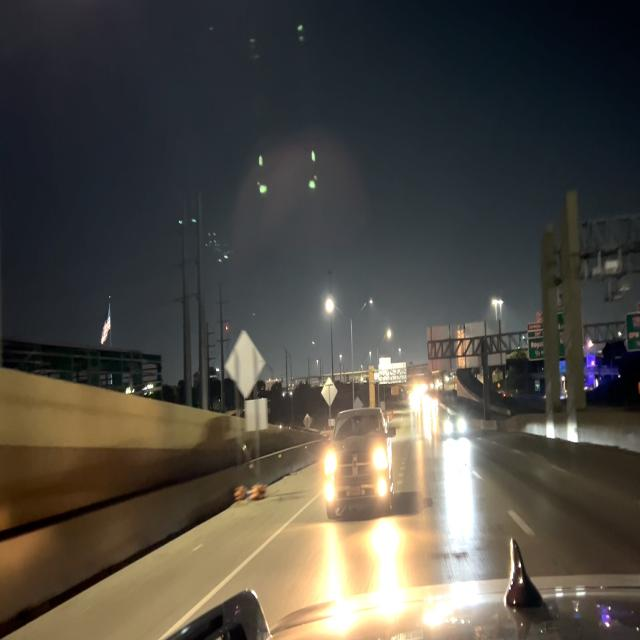back-of-sign: (424, 322, 507, 371), (224, 329, 266, 400), (246, 402, 267, 432)
